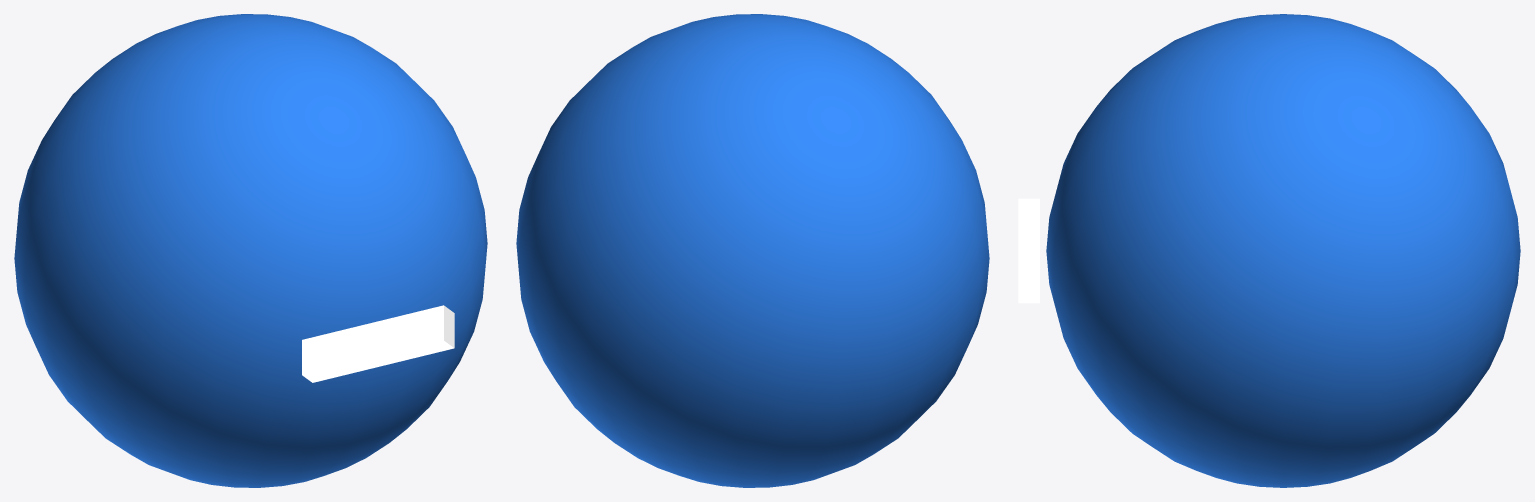
Rendered from eletron.glb.
3 renders of one model, left to right at view 1: azimuth 30°, elevation 25°; view 2: azimuth 150°, elevation 25°; view 3: azimuth 270°, elevation 25°, orthographic.
Bounding box in the file's own units: 1.1 × 1.1 × 1.17.
